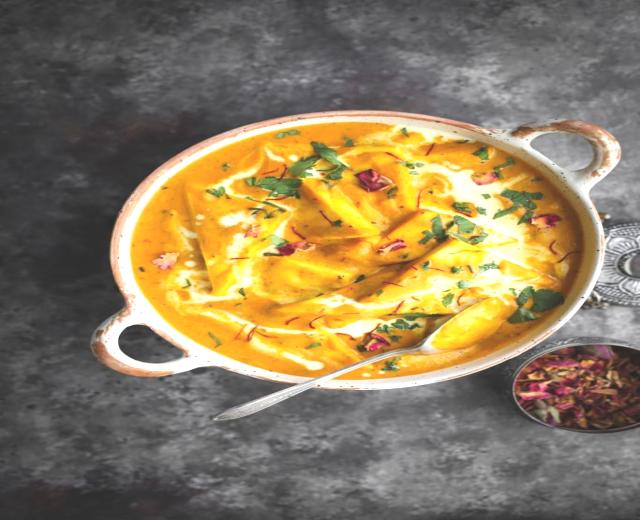kadai paneer: (93, 110, 614, 392), (4, 0, 632, 126), (7, 474, 211, 517)
